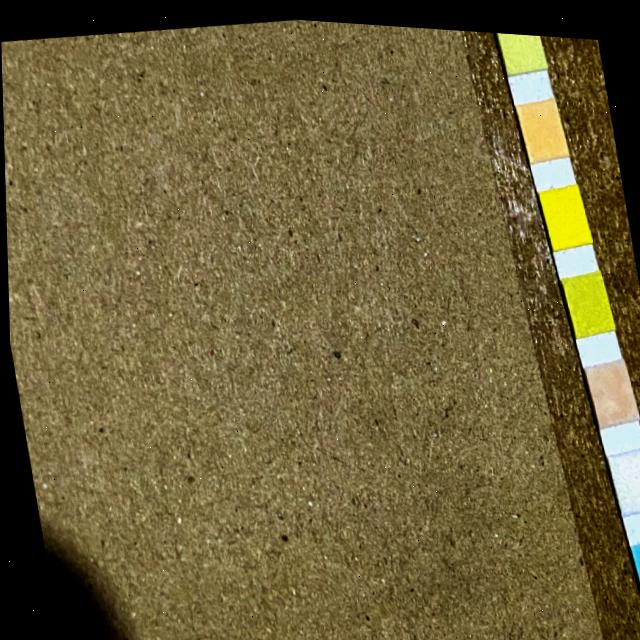Bilirubin: (609, 442, 640, 503)
Blood: (542, 179, 586, 241)
Glucose: (632, 529, 640, 594)
Ketone: (585, 352, 633, 417)
Protein: (498, 26, 543, 67)
SpGravity: (565, 266, 609, 328)
pH: (518, 92, 564, 155)
